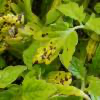Tomato leaf: (54, 4, 89, 21)
Tomato leaf bacterial spot: (31, 21, 82, 69), (39, 69, 76, 86)
